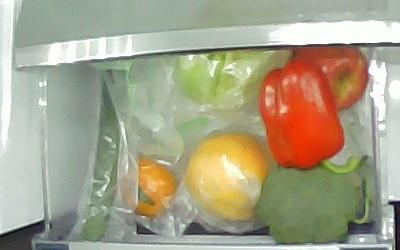apple: (290, 46, 369, 112)
broccoli: (257, 164, 370, 245)
cucumber_vinyl: (82, 70, 126, 242)
grapefruit_vinyl: (185, 133, 270, 221)
lettuce_vinyl: (168, 49, 292, 110)
paprika: (259, 59, 355, 174)
peach_vinyl: (121, 156, 178, 218)
